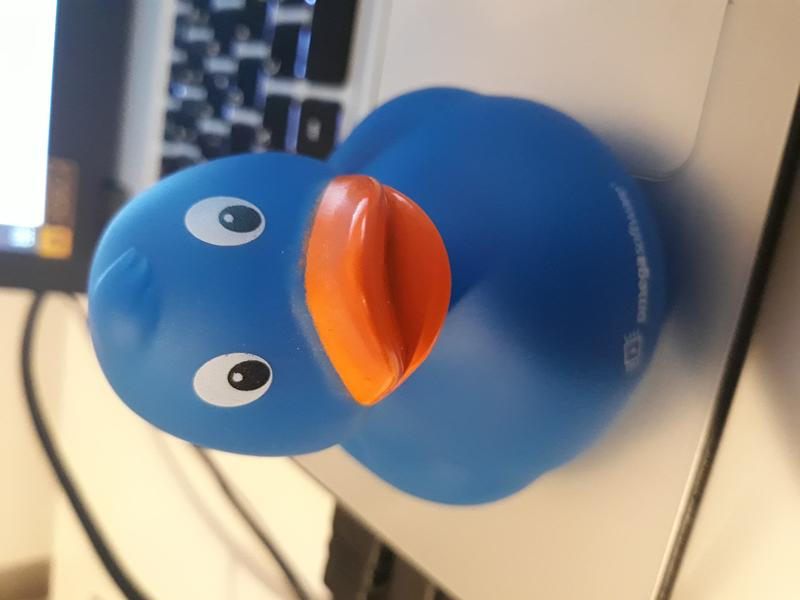plava_patkica: (64, 85, 679, 530)
